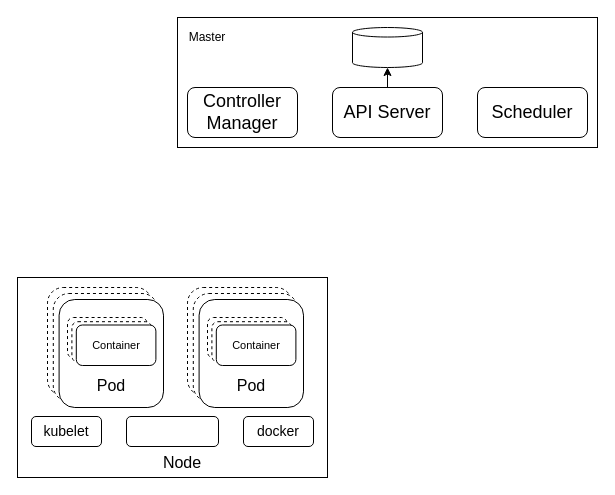
This 615x495 diagram has some shape labels left out. The centre of each missing label's shape, as x and y in pixels:
ETCD: the point at 387,47
kube-proxy: the point at 172,431
